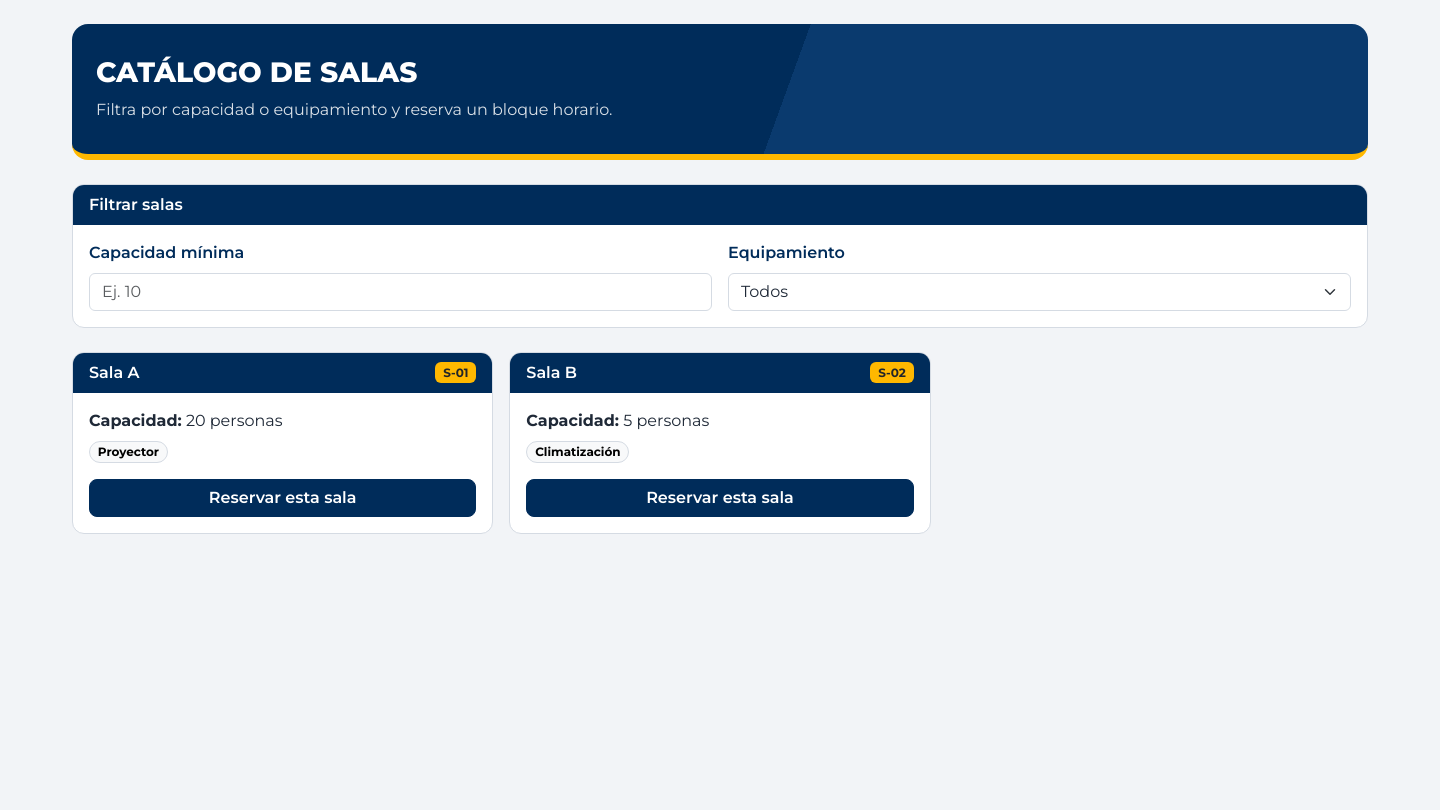
Página de Salas › no permite agregar un bloque que ya está ocupado
Click the button "Reservar esta sala" below "Proyector".
click(283, 498)  # box [89,479,476,517]
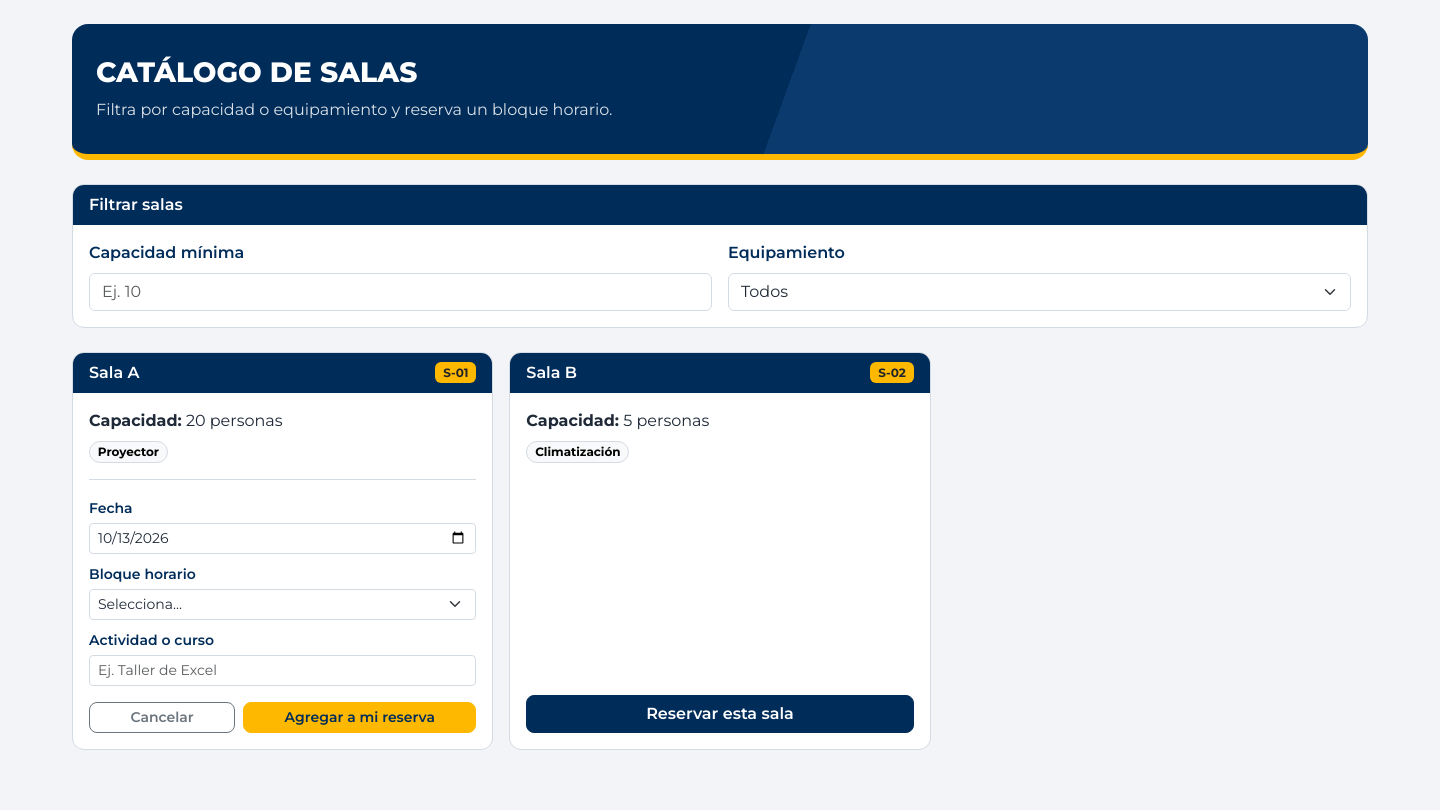
Type "2026-10-20" into the date field labelled "Fecha".
click(283, 538); type("2026-10-20")  # box [89,523,476,554]
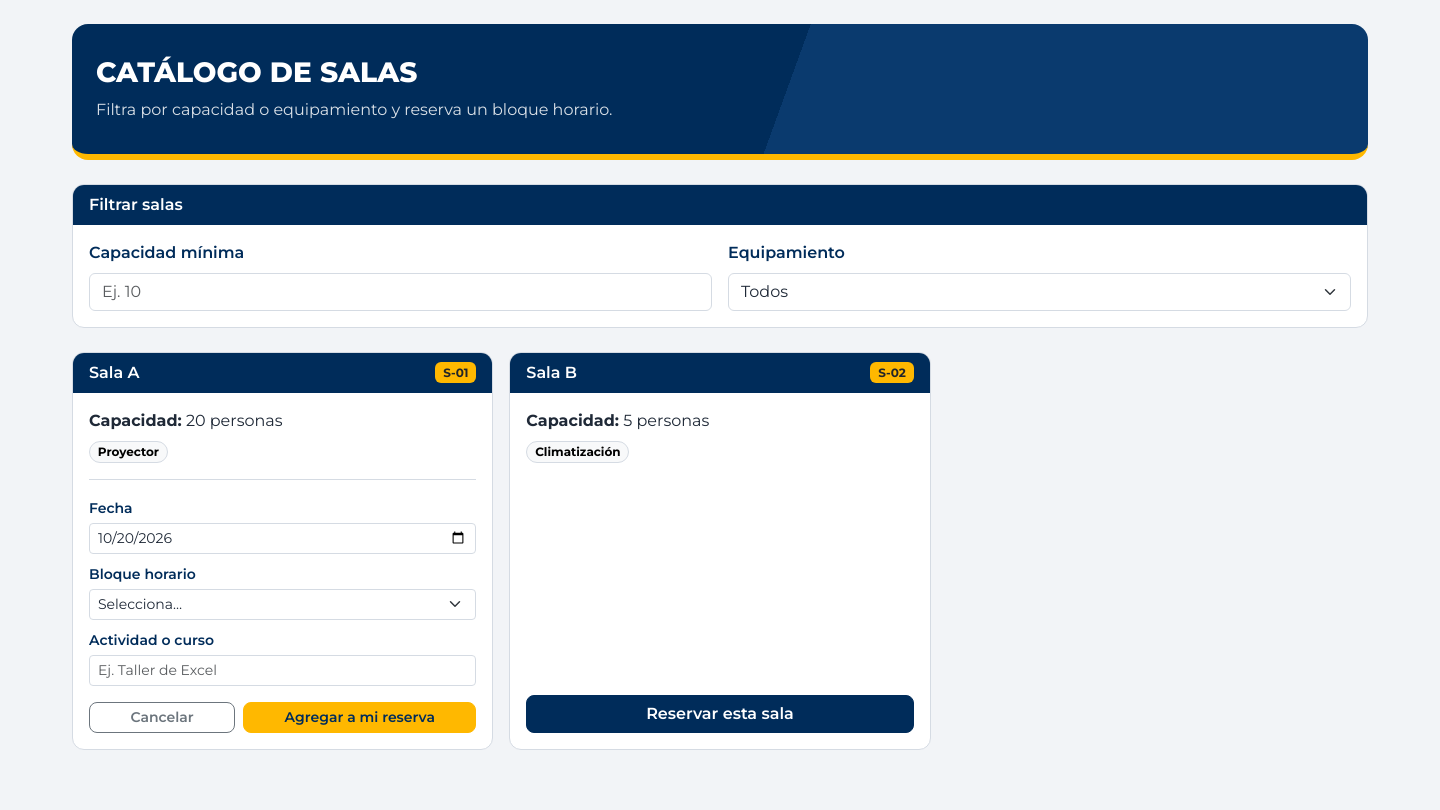
Select "09:05 – 10:00" in the dropdown labelled "Bloque horario" at (283, 604), box [89,589,476,620]
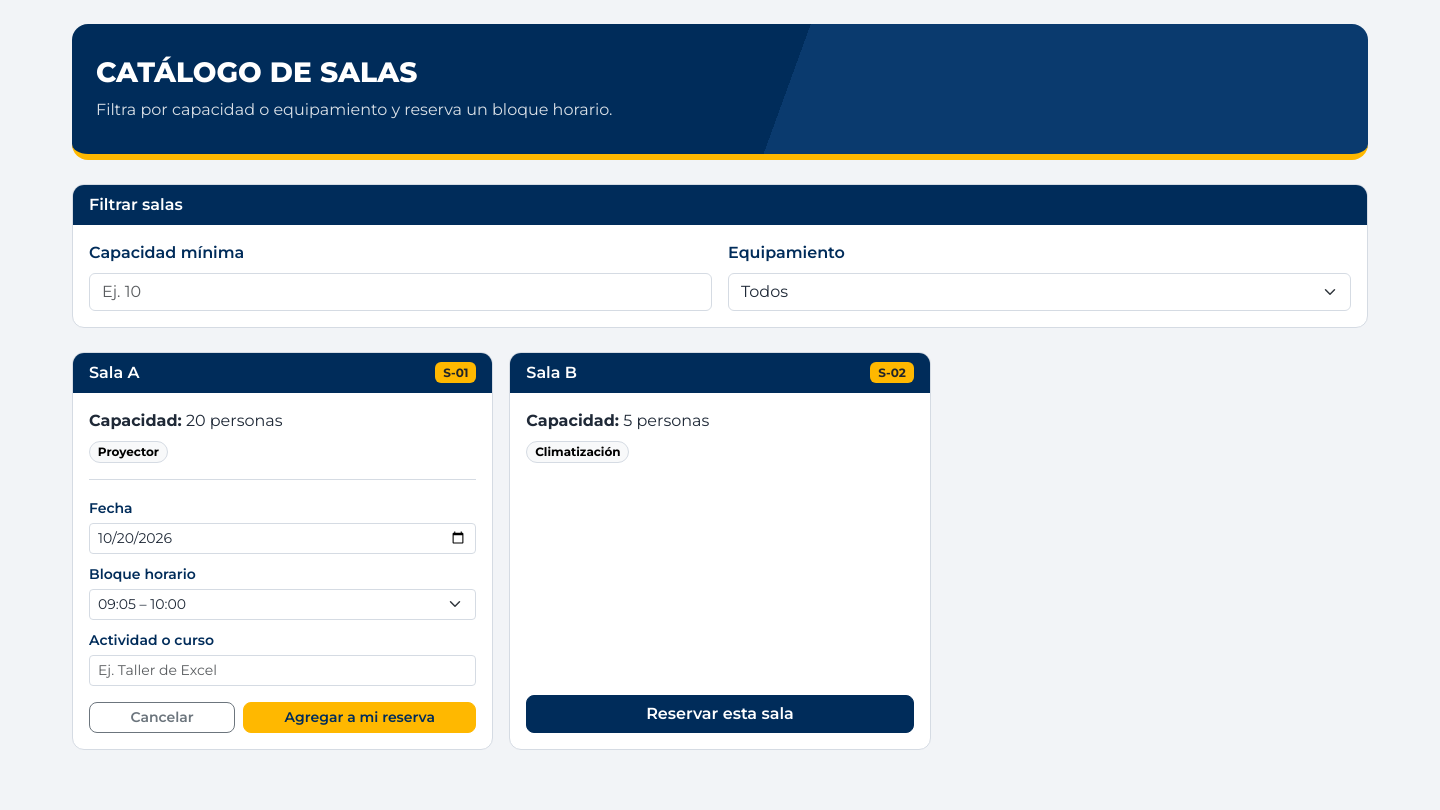
Type "Taller Python" into the field labelled "Actividad o curso".
click(283, 670); type("Taller Python")  # box [89,655,476,686]
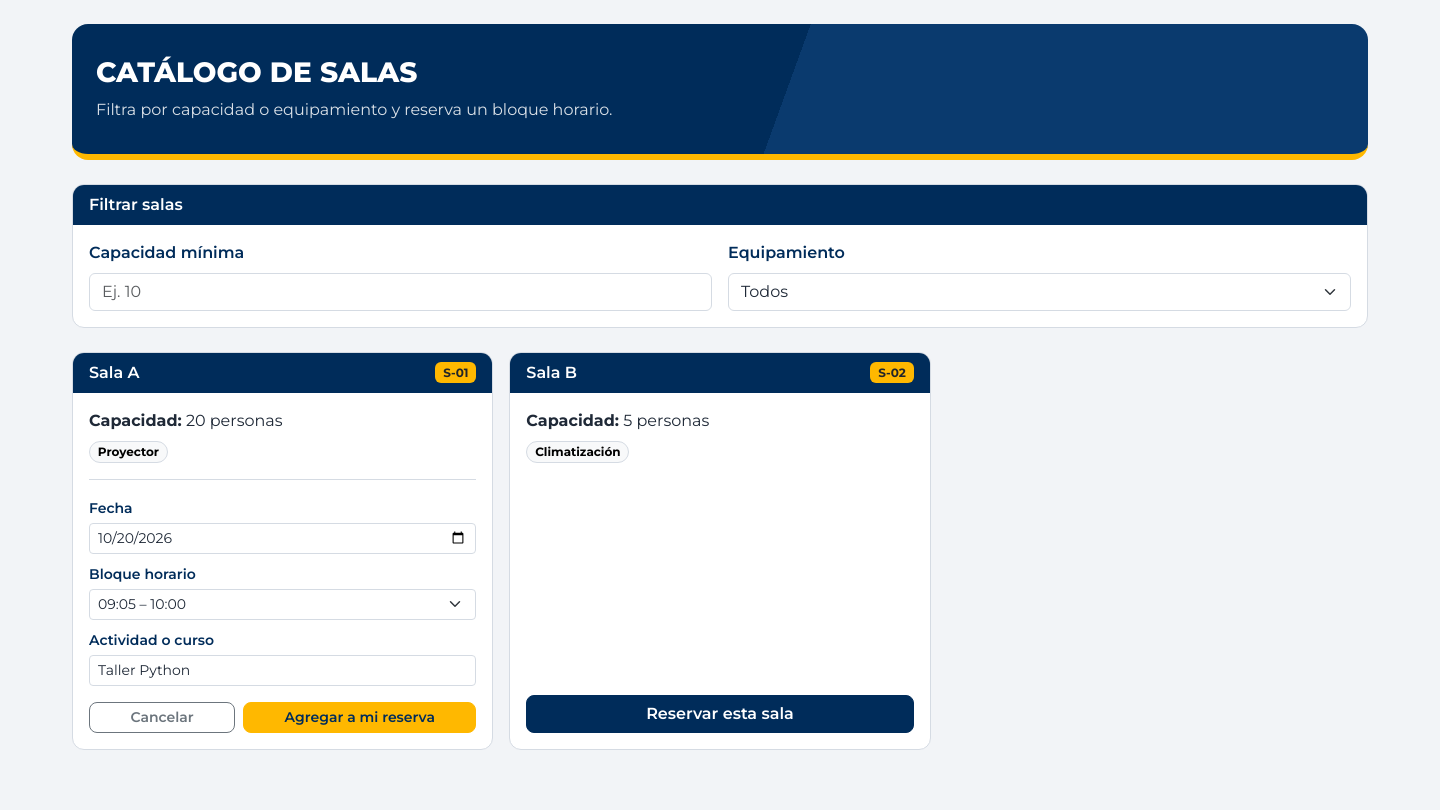
Click the button "Agregar a mi reserva".
click(360, 718)  # box [243,702,476,733]
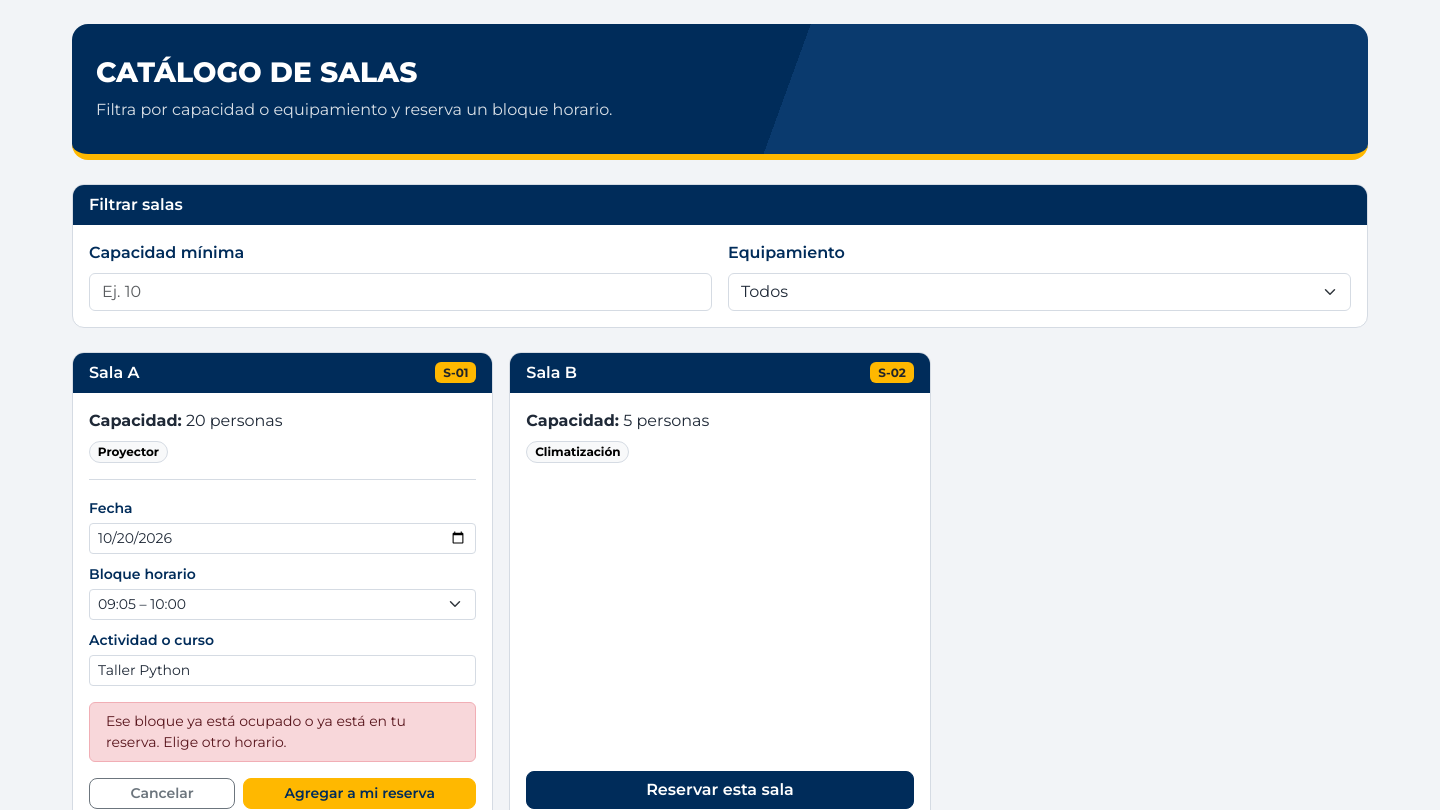
Check: the text "ya está ocupado" is shown, box [106,712,406,751]
